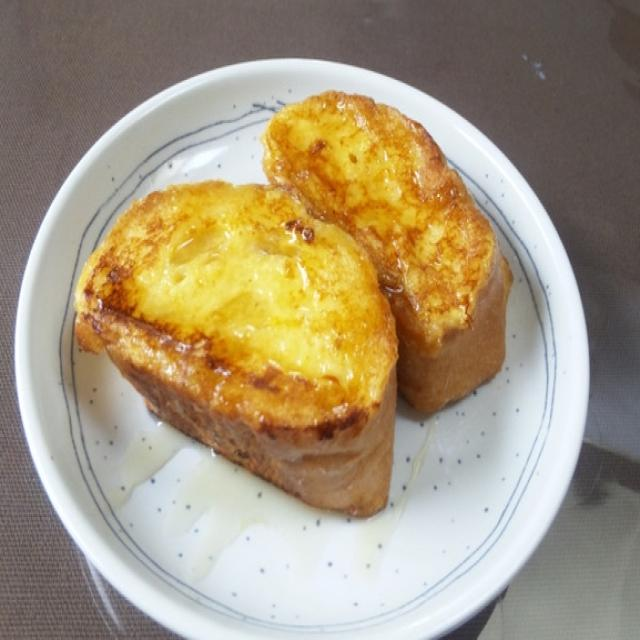面包点心: (48, 53, 534, 514)
